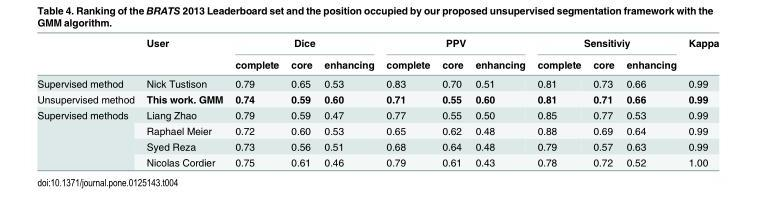table: (36, 36, 718, 167)
table column: (36, 36, 139, 167), (139, 36, 228, 167), (317, 36, 379, 167), (468, 36, 530, 167), (619, 36, 681, 167), (228, 36, 284, 167), (379, 36, 435, 167), (530, 36, 586, 167), (681, 36, 718, 167), (284, 36, 317, 167), (435, 36, 468, 167), (586, 36, 619, 167)
table column header: (36, 36, 718, 73)
table row: (36, 53, 718, 73), (36, 36, 718, 53), (36, 73, 718, 90), (36, 90, 718, 106), (36, 106, 718, 122), (36, 122, 718, 138), (36, 138, 718, 154), (36, 154, 718, 167)
table spanning cell: (36, 106, 139, 167), (139, 36, 228, 73), (228, 36, 379, 53), (379, 36, 530, 53), (530, 36, 681, 53), (681, 36, 718, 73)
